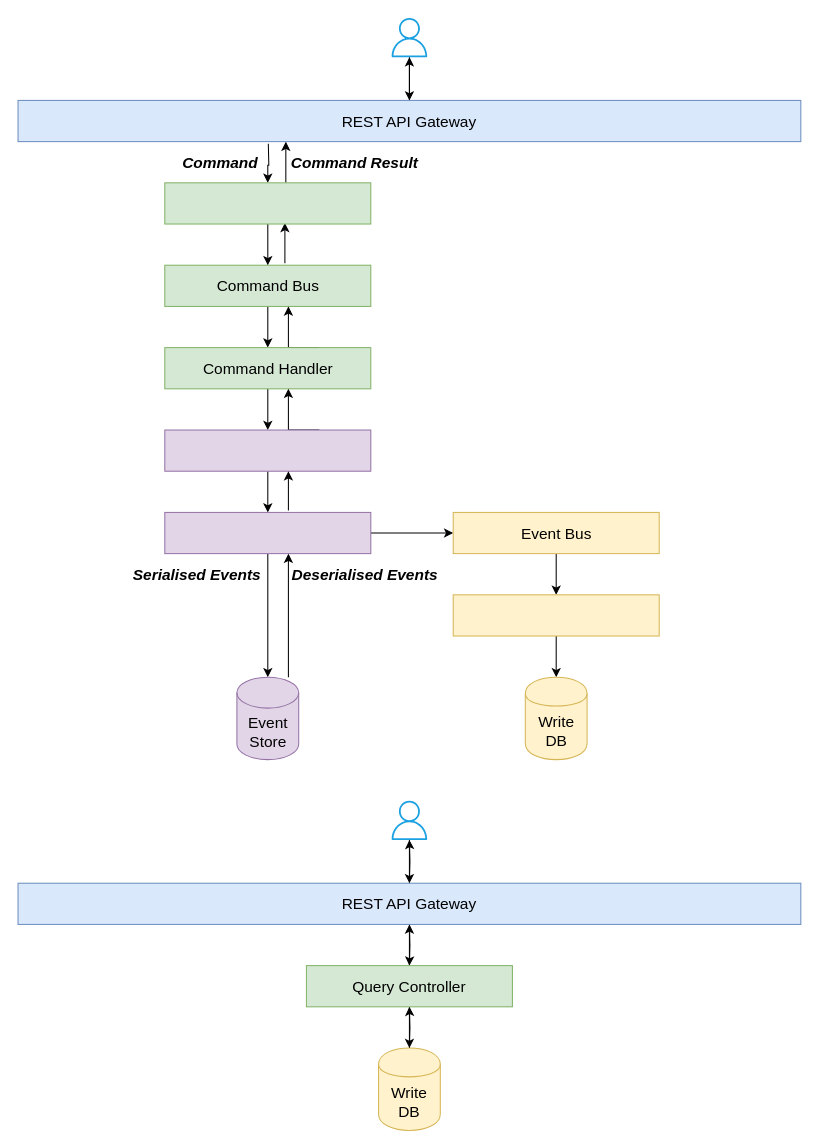
Image size: 819x1148. Some labels were removed from this diagram. The shapes that lost their labels are listed below. From the top down, each one's centre as x and y in pixels, then its label:
the point at 267,203: Command Controller
the point at 267,450: Aggregate (Domain Model)
the point at 267,532: Aggregate Repository
the point at 555,615: Event Handlers
